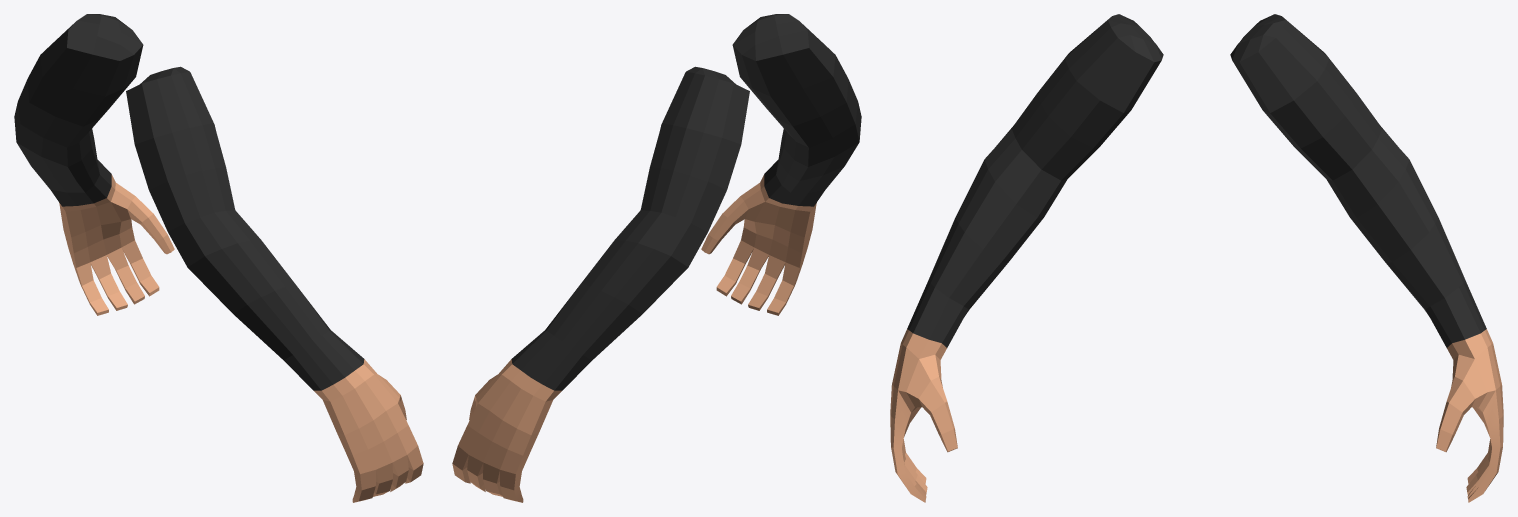
File: arms.glb
3 renders of one model, left to right at view 1: azimuth 30°, elevation 25°; view 2: azimuth 150°, elevation 25°; view 3: azimuth 270°, elevation 25°, orthographic. The views are drawn at different scales.
Parts seen in each view (by area): view 1: Arm1; view 2: Arm1; view 3: Arm1.
Part boxes in pixels (x1,y1,x2,y2): Arm1: (14, 14, 423, 502); Arm1: (452, 14, 861, 502); Arm1: (890, 14, 1503, 502).
Bounding box in the file's own units: 0.2271 × 0.4203 × 0.5661.
